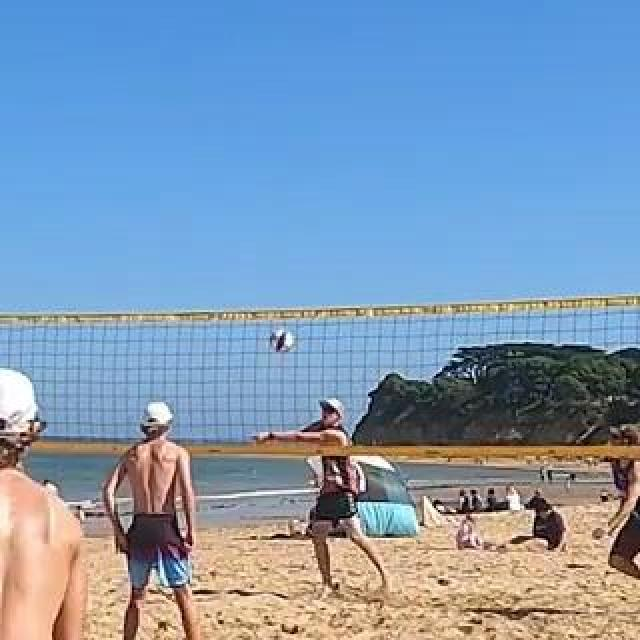volleyball: (268, 328, 296, 354)
